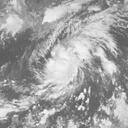cyclone: (28, 38, 85, 102)
